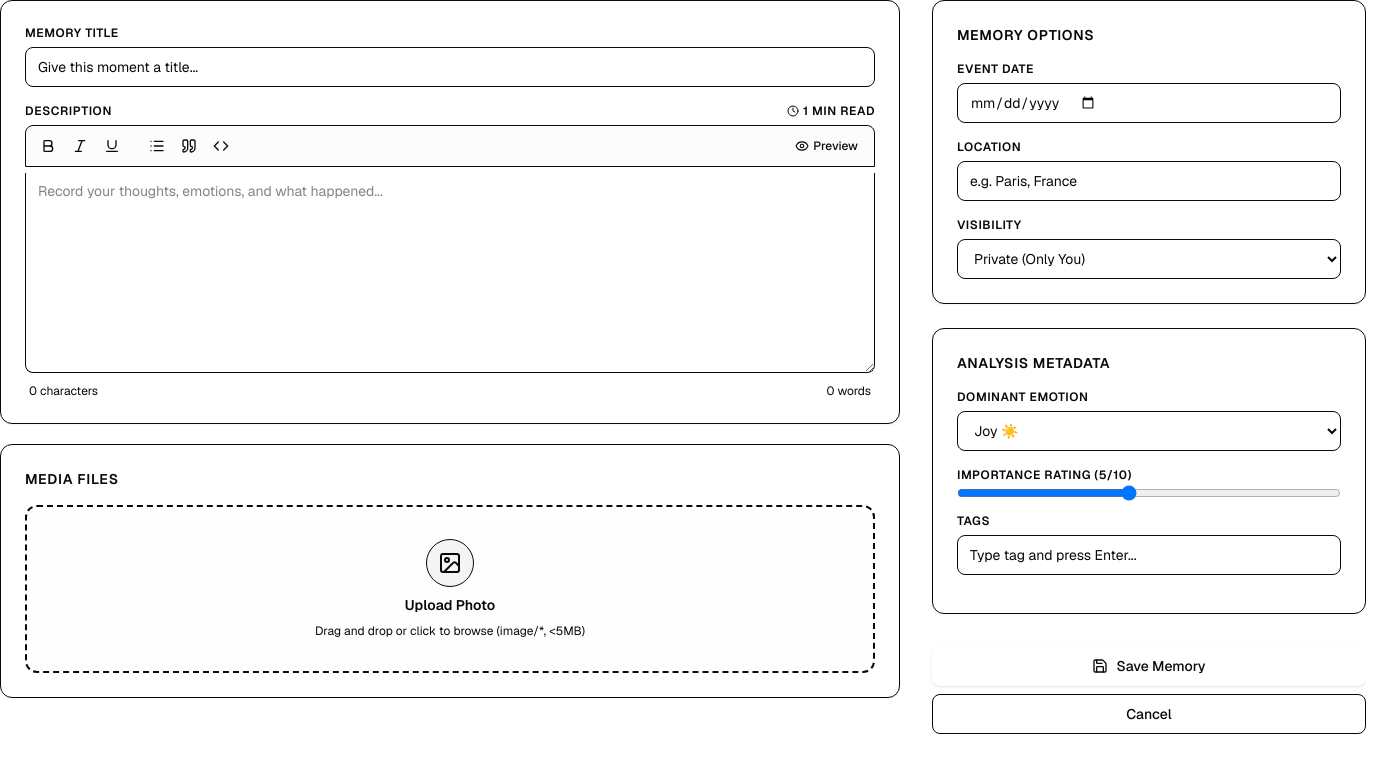
Scenario: Memory Editor & Markdown Calculations › calculates character, word count and reading time correctly
Type in description
Type "Hello world of Aurora-X" into the text box with placeholder "Record your thoughts, emotions, and what happened..." at (450, 273), box [25,173,875,373]
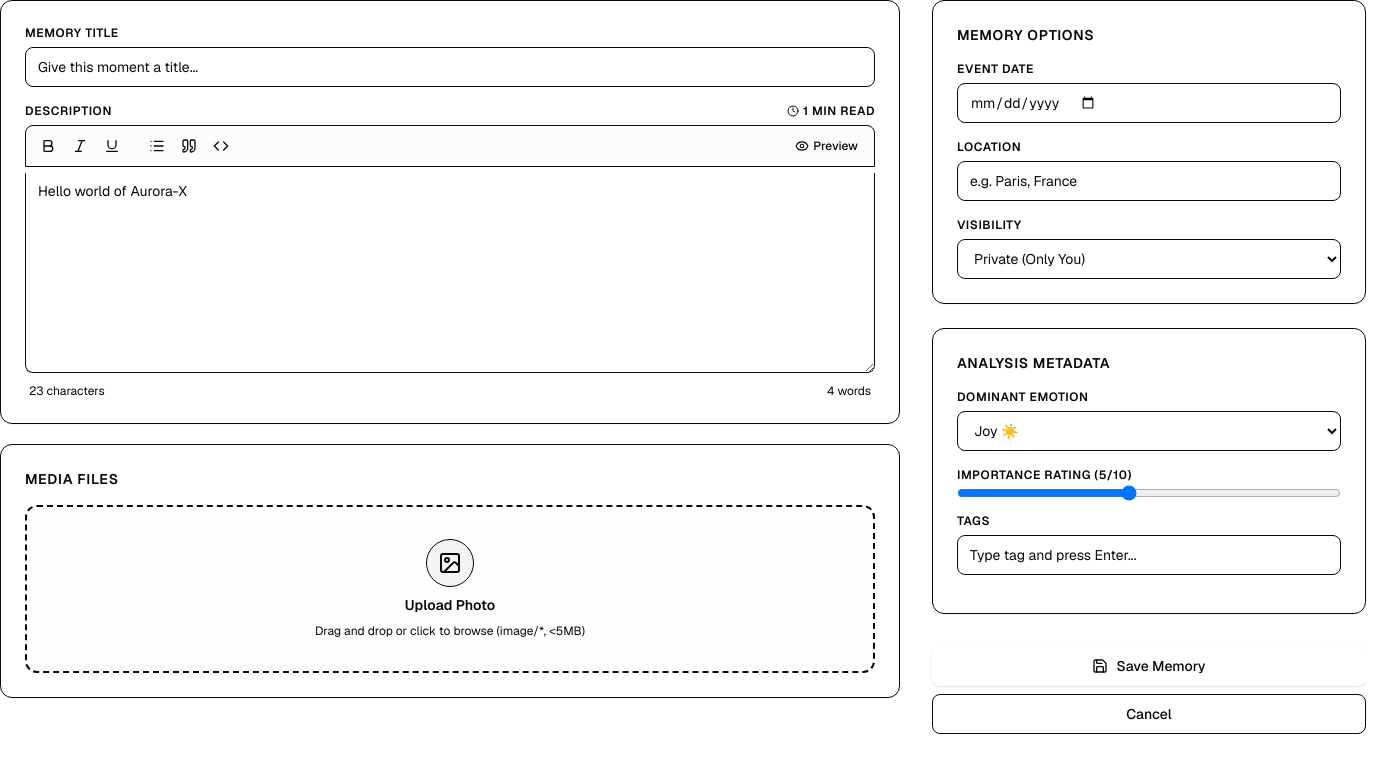
Expected: the text "1 min read" is shown, [787,103,875,119]
Now the text "23 characters" is shown, box [29,383,105,399]
Now the text "4 words" is shown, box [827,383,871,399]
